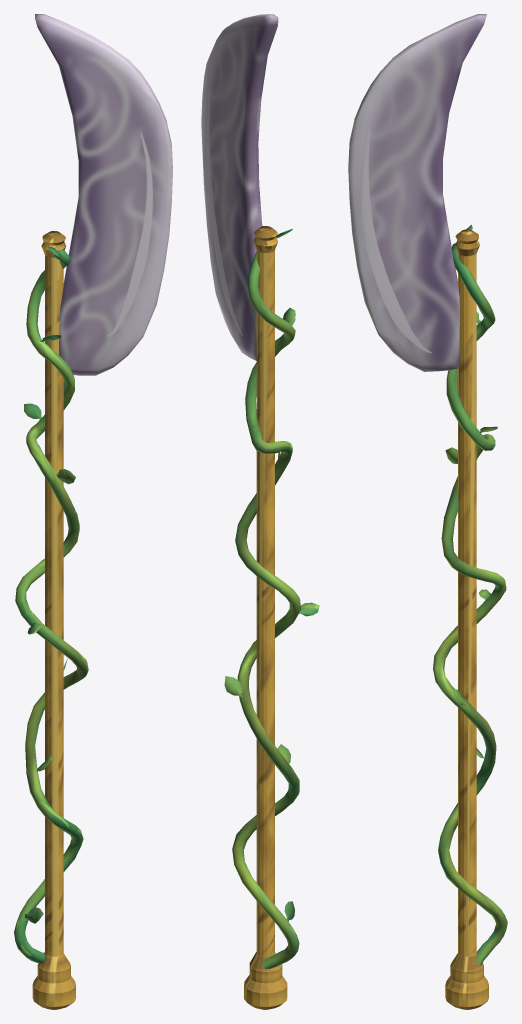
File: Armas.obj
3 renders of one model, left to right at view 1: azimuth 90°, elevation 25°; view 2: azimuth 210°, elevation 25°; view 3: azimuth 270°, elevation 25°, orthographic.
Parts seen in each view (by area): view 1: HojaEspada_Hoja, Palo_Palo, Enredadera_Enredadera; view 2: HojaEspada_Hoja, Palo_Palo, Enredadera_Enredadera; view 3: HojaEspada_Hoja, Palo_Palo, Enredadera_Enredadera.
Part boxes in pixels (x1,y1,x2,y2): HojaEspada_Hoja: [35, 14, 172, 375]; Palo_Palo: [32, 230, 75, 1009]; Enredadera_Enredadera: [14, 246, 88, 963]; HojaEspada_Hoja: [201, 14, 278, 360]; Palo_Palo: [244, 226, 287, 1009]; Enredadera_Enredadera: [224, 228, 319, 968]; HojaEspada_Hoja: [348, 14, 486, 371]; Palo_Palo: [445, 229, 488, 1009]; Enredadera_Enredadera: [433, 224, 507, 965].
Bounding box in the file's own units: 0.00741 × 0.088 × 0.0128.
Materials: 3 (3 with a texture image).
